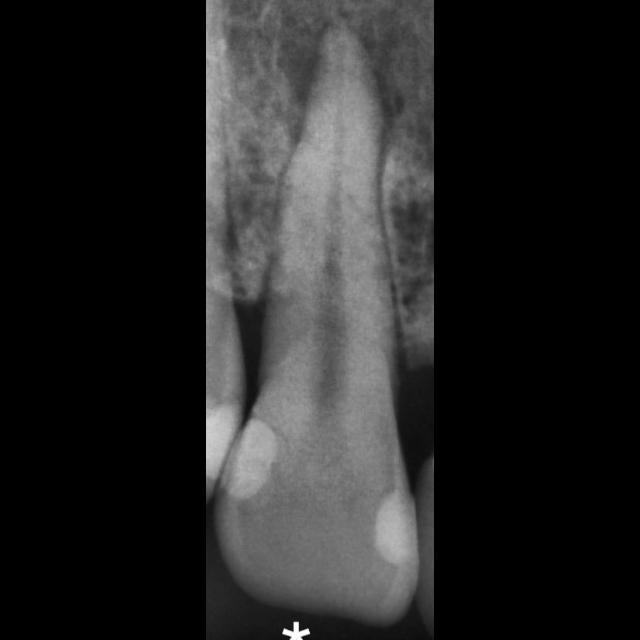tooth: (213, 22, 421, 628)
